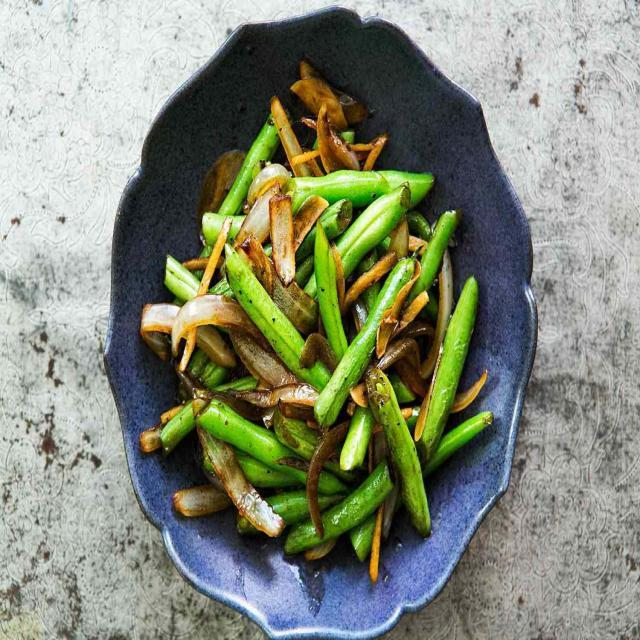Beans: (167, 75, 500, 568)
